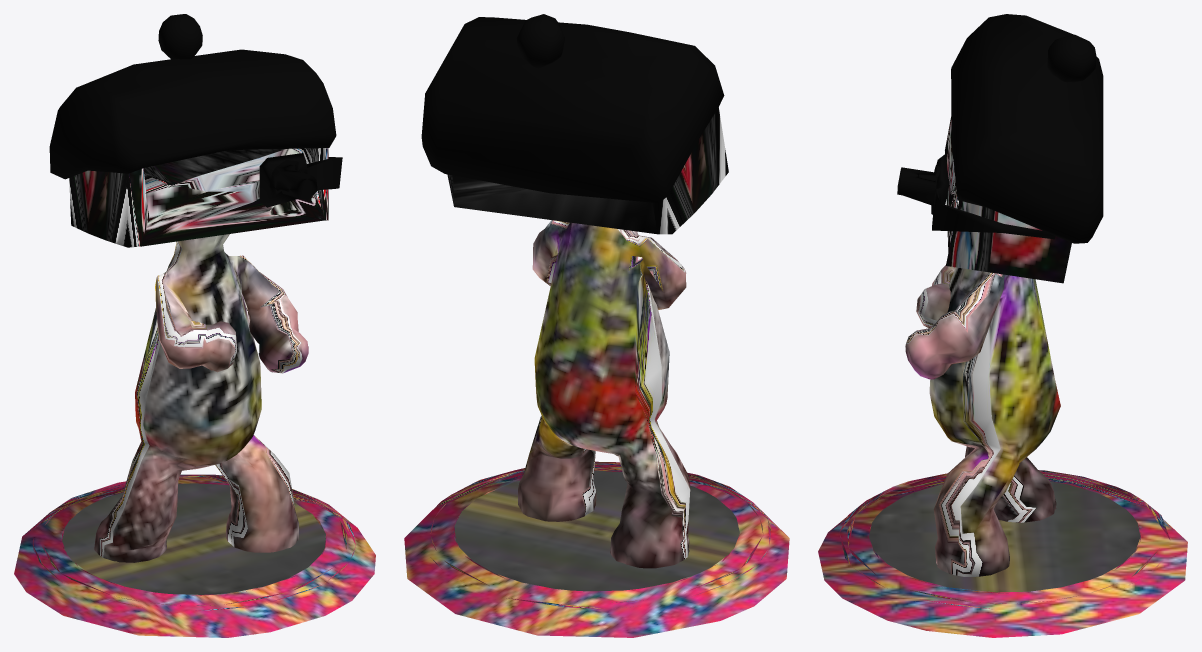
3 renders of one model, left to right at view 1: azimuth 30°, elevation 25°; view 2: azimuth 150°, elevation 25°; view 3: azimuth 270°, elevation 25°, orthographic. The views are drawn at different scales.
Bounding box in the file's own units: 1.44 × 2.27 × 1.43.
Materials: 5 (4 with a texture image).
